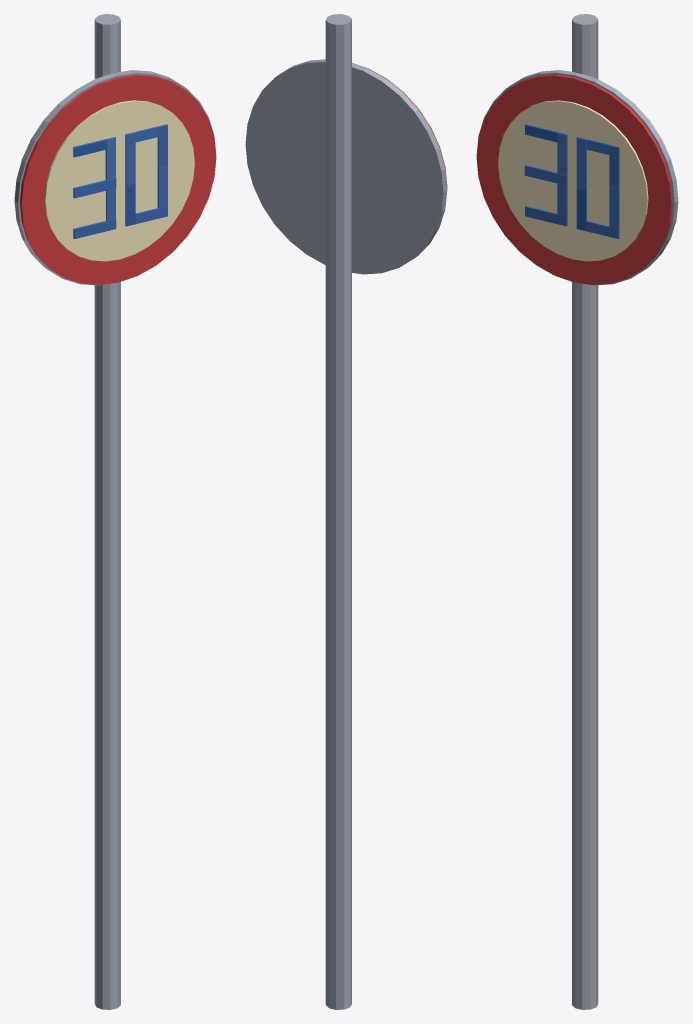
Rendered from HK_Sign_Speed30.lod.glb.
3 views of the same model, side by side, from view 1: azimuth 30°, elevation 25°; view 2: azimuth 150°, elevation 25°; view 3: azimuth 330°, elevation 25° (orthographic).
Visible parts, largest first — view 1: HK_Sign_Speed30; view 2: HK_Sign_Speed30; view 3: HK_Sign_Speed30.
Part boxes in pixels (bbox=[...]): HK_Sign_Speed30: bbox=[14, 14, 216, 1009]; HK_Sign_Speed30: bbox=[245, 14, 447, 1009]; HK_Sign_Speed30: bbox=[476, 14, 678, 1009].
Bounding box in the file's own units: 0.61 × 2.9 × 0.1053.
